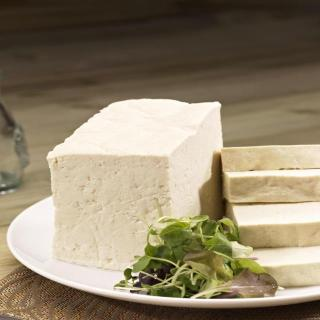Tahu: (32, 86, 320, 300)
